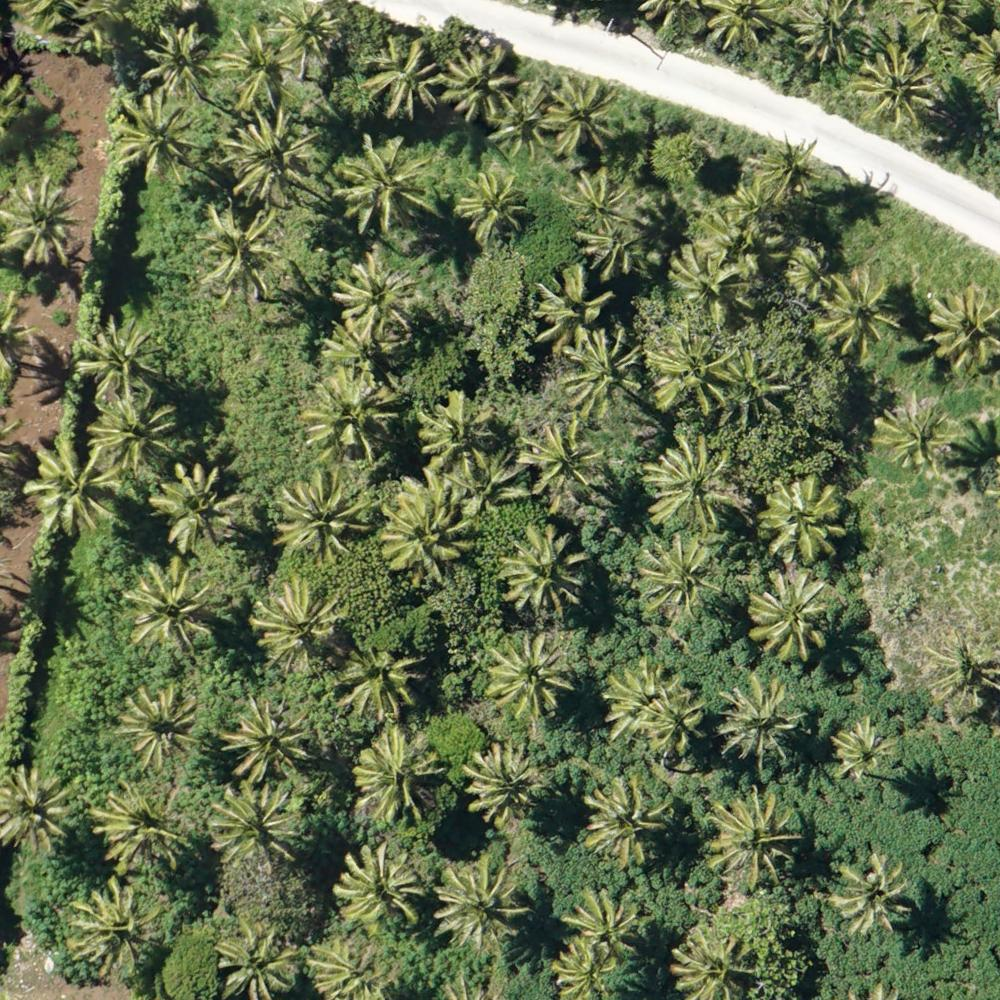Palm: (30, 432, 126, 539), (334, 135, 437, 233), (191, 202, 288, 305), (639, 439, 742, 532), (302, 364, 399, 461), (221, 111, 320, 206), (113, 89, 207, 189), (706, 790, 803, 886), (250, 582, 346, 677), (91, 780, 185, 875), (212, 779, 306, 871), (351, 732, 442, 827), (66, 879, 161, 969), (645, 324, 736, 417), (278, 467, 366, 563), (746, 567, 835, 661), (482, 631, 578, 715), (151, 458, 239, 547), (813, 268, 902, 356), (126, 559, 213, 649), (496, 528, 586, 615), (1, 181, 86, 273), (581, 778, 672, 863), (335, 845, 424, 931), (755, 477, 845, 561), (220, 699, 309, 783), (435, 862, 524, 945), (72, 314, 163, 395), (718, 673, 802, 760), (216, 25, 299, 112), (635, 535, 720, 618), (669, 242, 755, 324), (557, 333, 642, 415), (333, 254, 421, 333), (922, 285, 1000, 373), (1, 765, 78, 854), (379, 496, 466, 574), (218, 919, 304, 997), (126, 681, 201, 769), (830, 852, 912, 931), (521, 419, 604, 497), (671, 921, 756, 997), (419, 391, 497, 473), (543, 73, 621, 155), (923, 629, 1000, 712), (718, 344, 793, 427), (857, 48, 937, 125), (557, 886, 643, 957), (361, 36, 441, 112), (535, 265, 614, 341), (876, 393, 956, 468), (88, 397, 174, 465), (456, 172, 535, 246), (339, 646, 421, 717), (437, 44, 515, 117), (468, 746, 542, 821), (141, 19, 215, 94), (324, 315, 405, 382), (304, 938, 389, 1000), (786, 1, 871, 62), (747, 132, 820, 201), (267, 2, 340, 64), (491, 84, 554, 155), (563, 173, 634, 234), (551, 944, 617, 1000), (641, 692, 700, 750), (835, 715, 891, 775), (786, 241, 840, 297)
